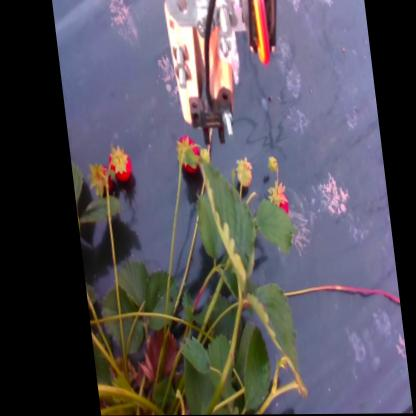ripe: (172, 138, 197, 172), (106, 147, 130, 181), (88, 164, 110, 197), (263, 186, 286, 217)
unripe: (231, 155, 249, 189)
